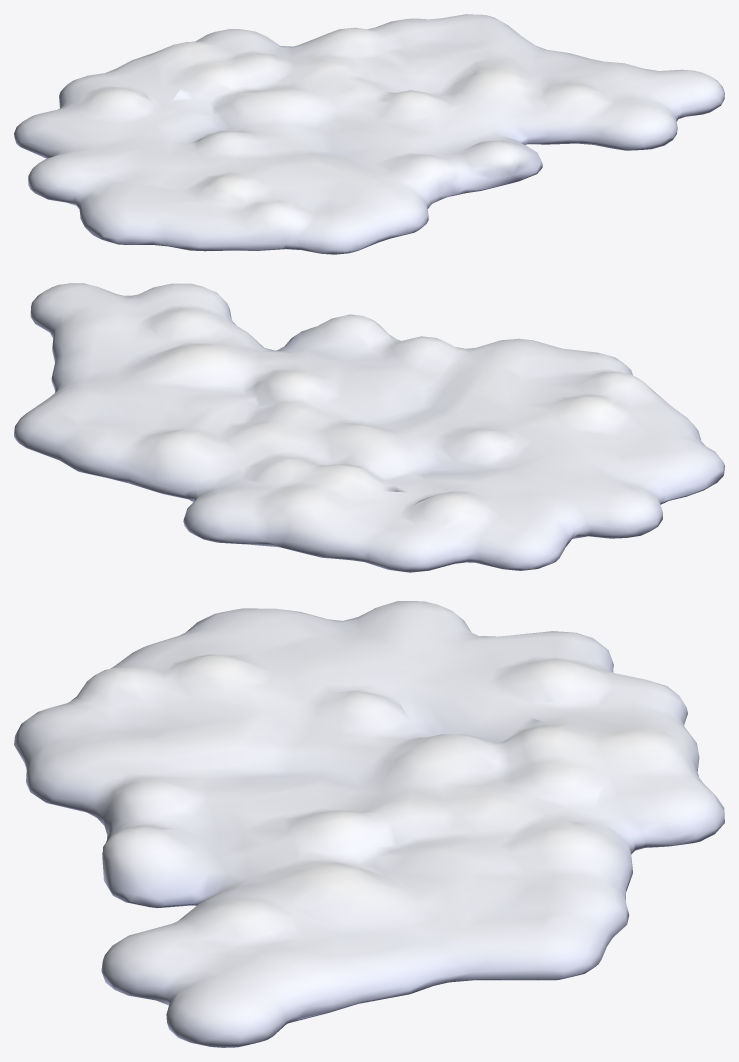
File: NubeManto1.fbx
The picture shows the model from 3 angles, top to bottom: view 1: azimuth 30°, elevation 25°; view 2: azimuth 150°, elevation 25°; view 3: azimuth 270°, elevation 25°; orthographic projection. The views are drawn at different scales.
Visible parts, largest first — view 1: NubeManto1; view 2: NubeManto1; view 3: NubeManto1.
Part boxes in pixels (left/top/right/bottom): NubeManto1: left=14, top=14, right=724, bottom=254; NubeManto1: left=14, top=283, right=724, bottom=572; NubeManto1: left=14, top=601, right=724, bottom=1047.
Size of the model in its own units: 900 by 47.7 by 629.
Materials: 1 (1 with a texture image).
